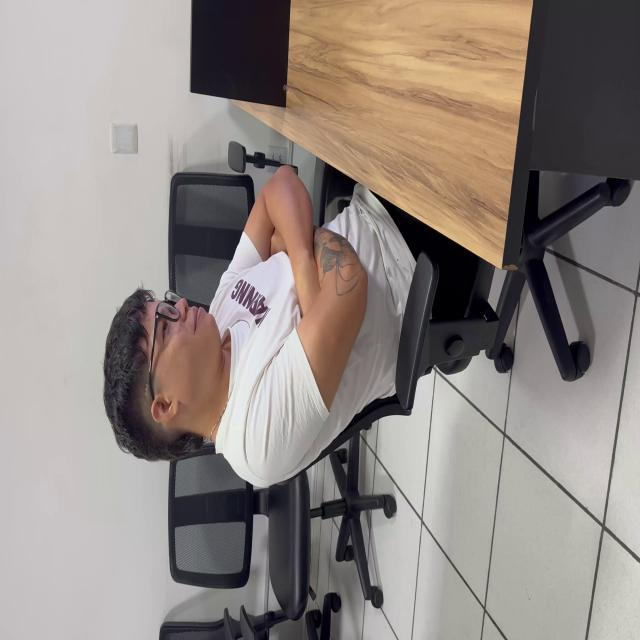sentado: (102, 162, 500, 491)
